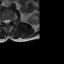CCS_normal: (6, 17, 8, 26)
LFS_stenosis: (10, 17, 12, 23)
LLS_normal: (8, 17, 10, 24)
RFS_normal: (2, 18, 4, 23)
RLS_normal: (4, 18, 6, 24)
